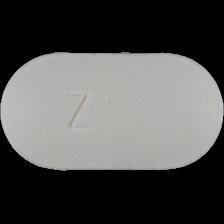68382-136: (0, 0, 224, 224)
